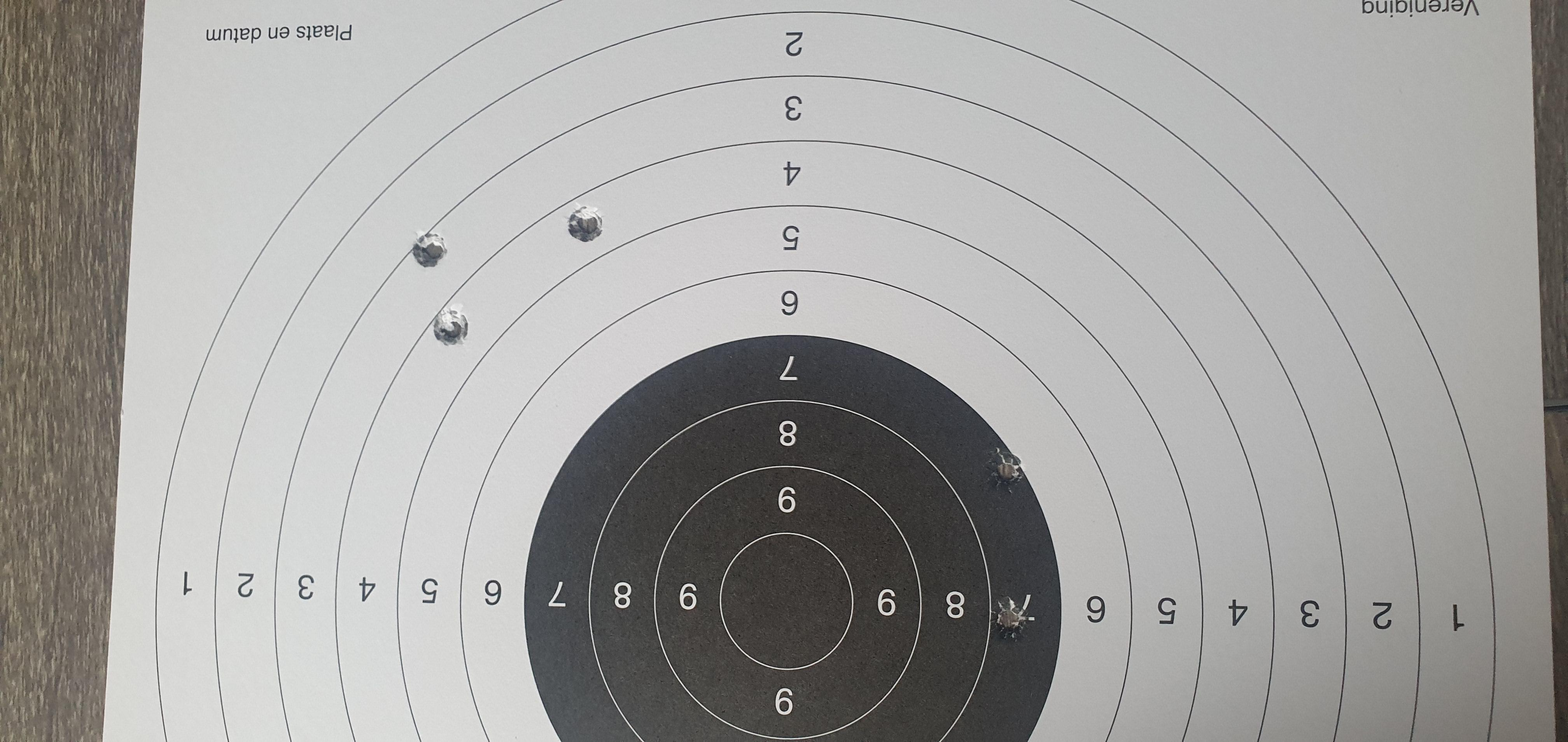hole: (203, 468, 316, 487), (526, 465, 626, 486), (1048, 268, 1144, 287), (996, 193, 1080, 212), (836, 204, 924, 222)
